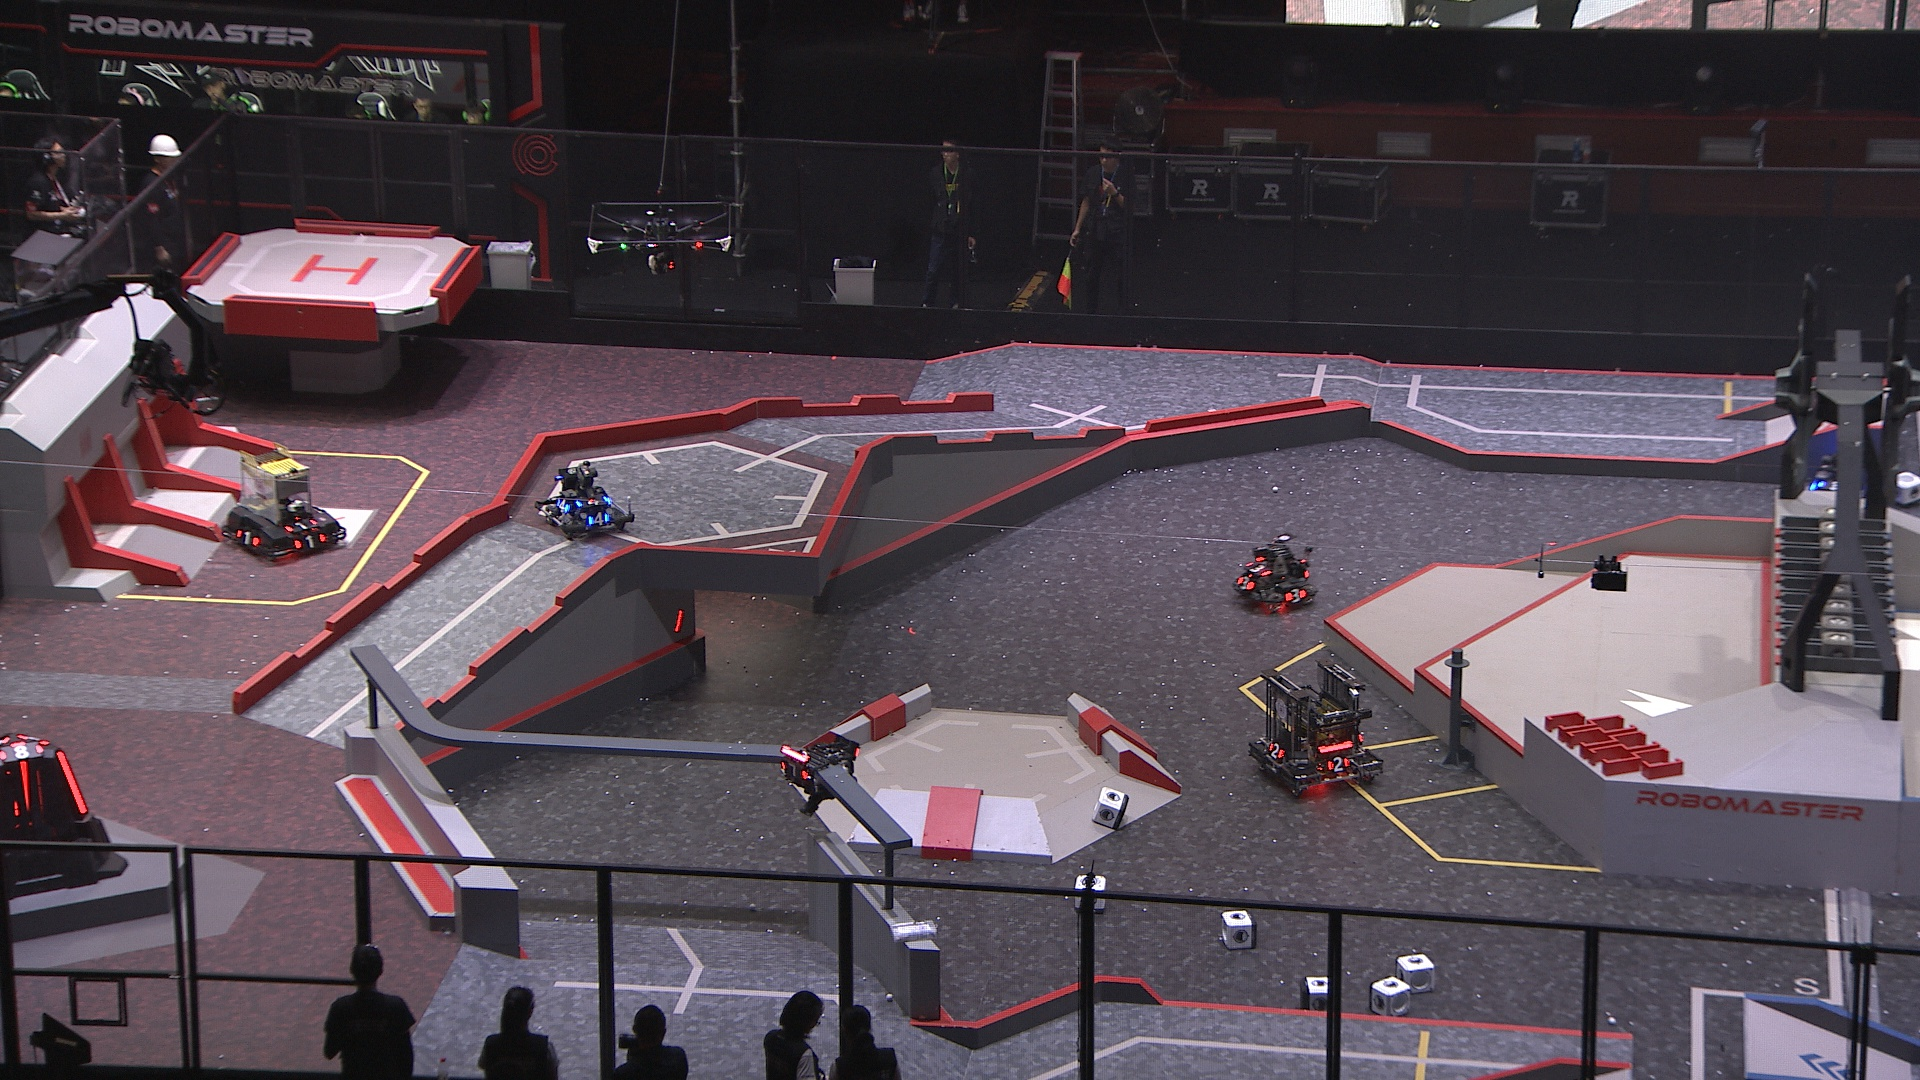armor: (47, 746, 90, 816), (0, 738, 44, 761), (17, 756, 36, 808), (775, 756, 808, 785), (289, 527, 324, 551), (278, 514, 318, 533), (233, 526, 264, 549), (1263, 741, 1288, 764), (575, 493, 613, 508), (1283, 585, 1309, 605), (585, 509, 613, 527), (1244, 559, 1269, 579), (18, 731, 47, 746), (1325, 756, 1352, 773), (553, 495, 571, 516), (1236, 574, 1254, 589)
car: (1244, 659, 1385, 796), (218, 443, 347, 564), (533, 460, 636, 543), (1228, 533, 1316, 617), (1795, 447, 1884, 516)
watcher: (771, 731, 861, 815)
